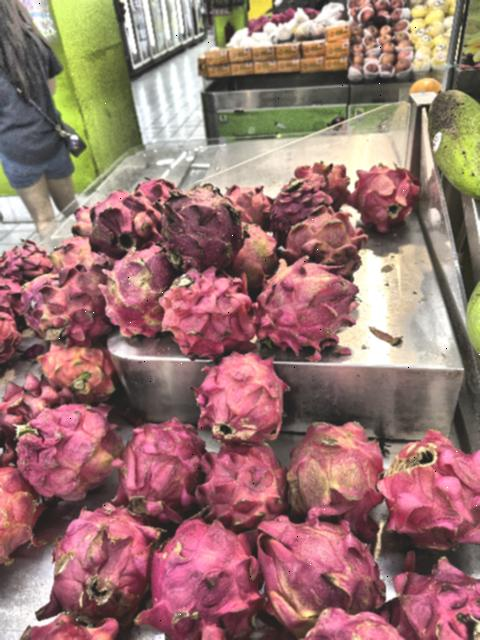buah-naga-belum-matang: (252, 512, 380, 616), (278, 419, 382, 519), (20, 413, 126, 485), (282, 213, 372, 281), (25, 342, 123, 403), (105, 248, 174, 332), (232, 224, 280, 274), (15, 274, 56, 326)
buah-naga-matang: (145, 512, 255, 636), (376, 435, 480, 545), (46, 506, 150, 606), (112, 416, 214, 508), (255, 260, 356, 346), (190, 347, 286, 437), (154, 265, 248, 355), (384, 554, 480, 640), (160, 181, 248, 261), (205, 436, 283, 520), (46, 269, 109, 341), (0, 461, 44, 555), (90, 187, 154, 249), (346, 172, 410, 232), (268, 178, 328, 224), (1, 244, 56, 276), (298, 162, 346, 192)
